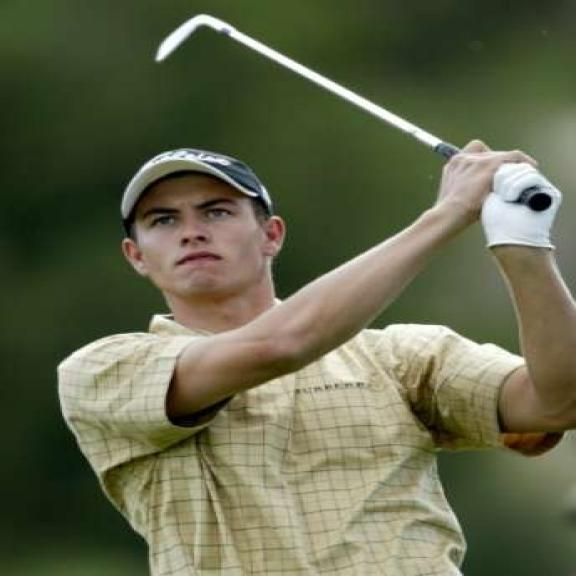face: (115, 184, 290, 300)
